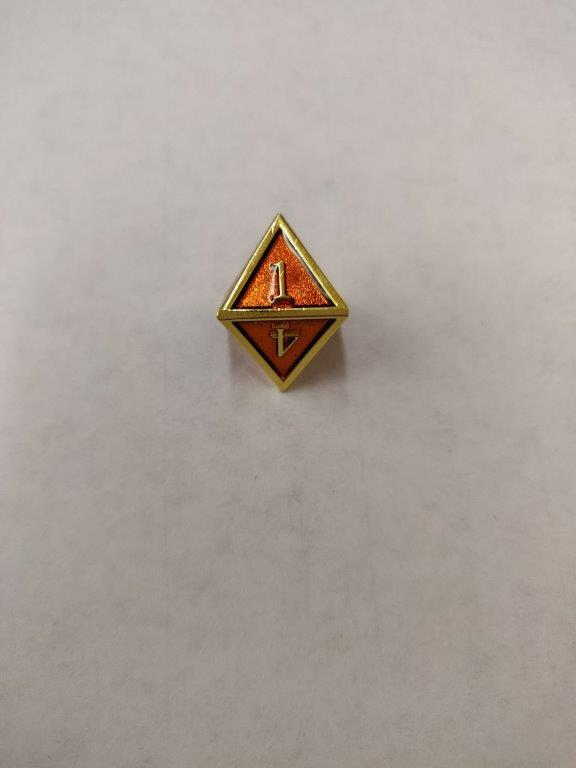d8-1: (212, 213, 348, 393)
